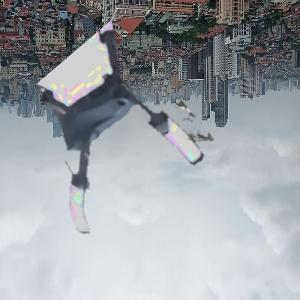drone: (18, 55, 192, 229)
